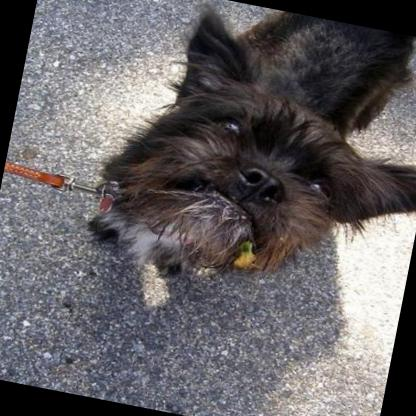affenpinscher: (73, 0, 416, 345)
